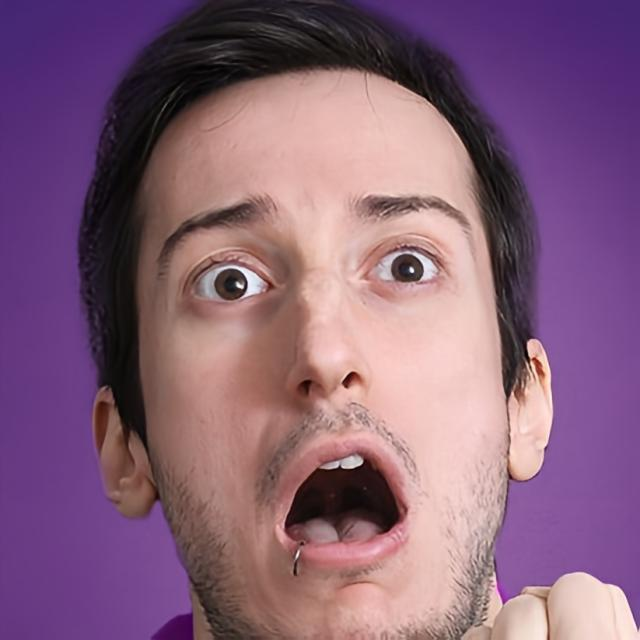Fear: (138, 63, 512, 640)
